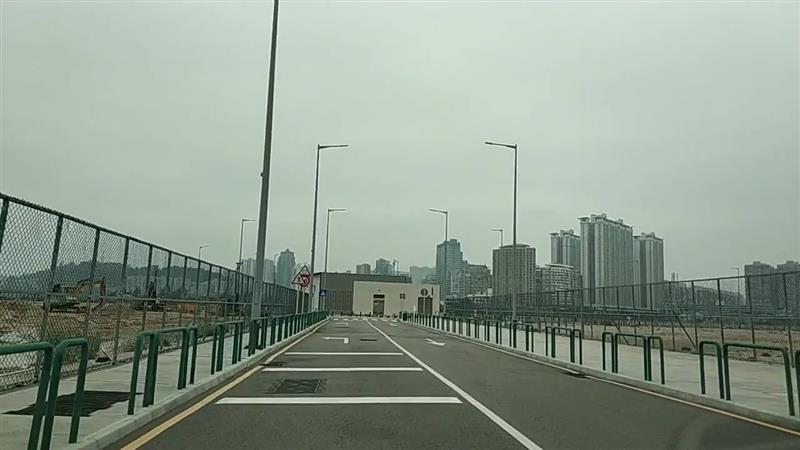roadDown: (423, 335, 447, 348)
roadTurnLeft: (321, 333, 351, 347)
